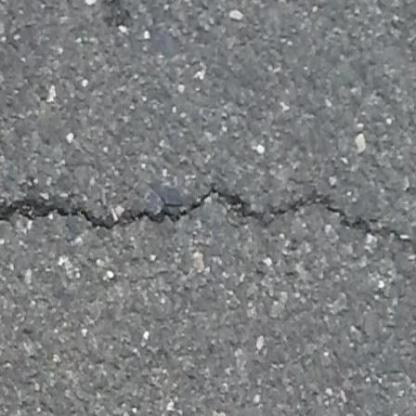Cracks: (1, 143, 416, 297)
